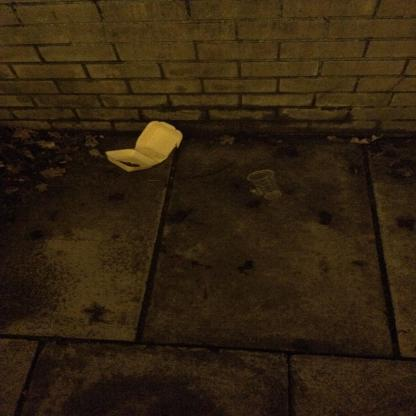kopuk: (106, 121, 184, 174)
plastik: (248, 170, 284, 201)
